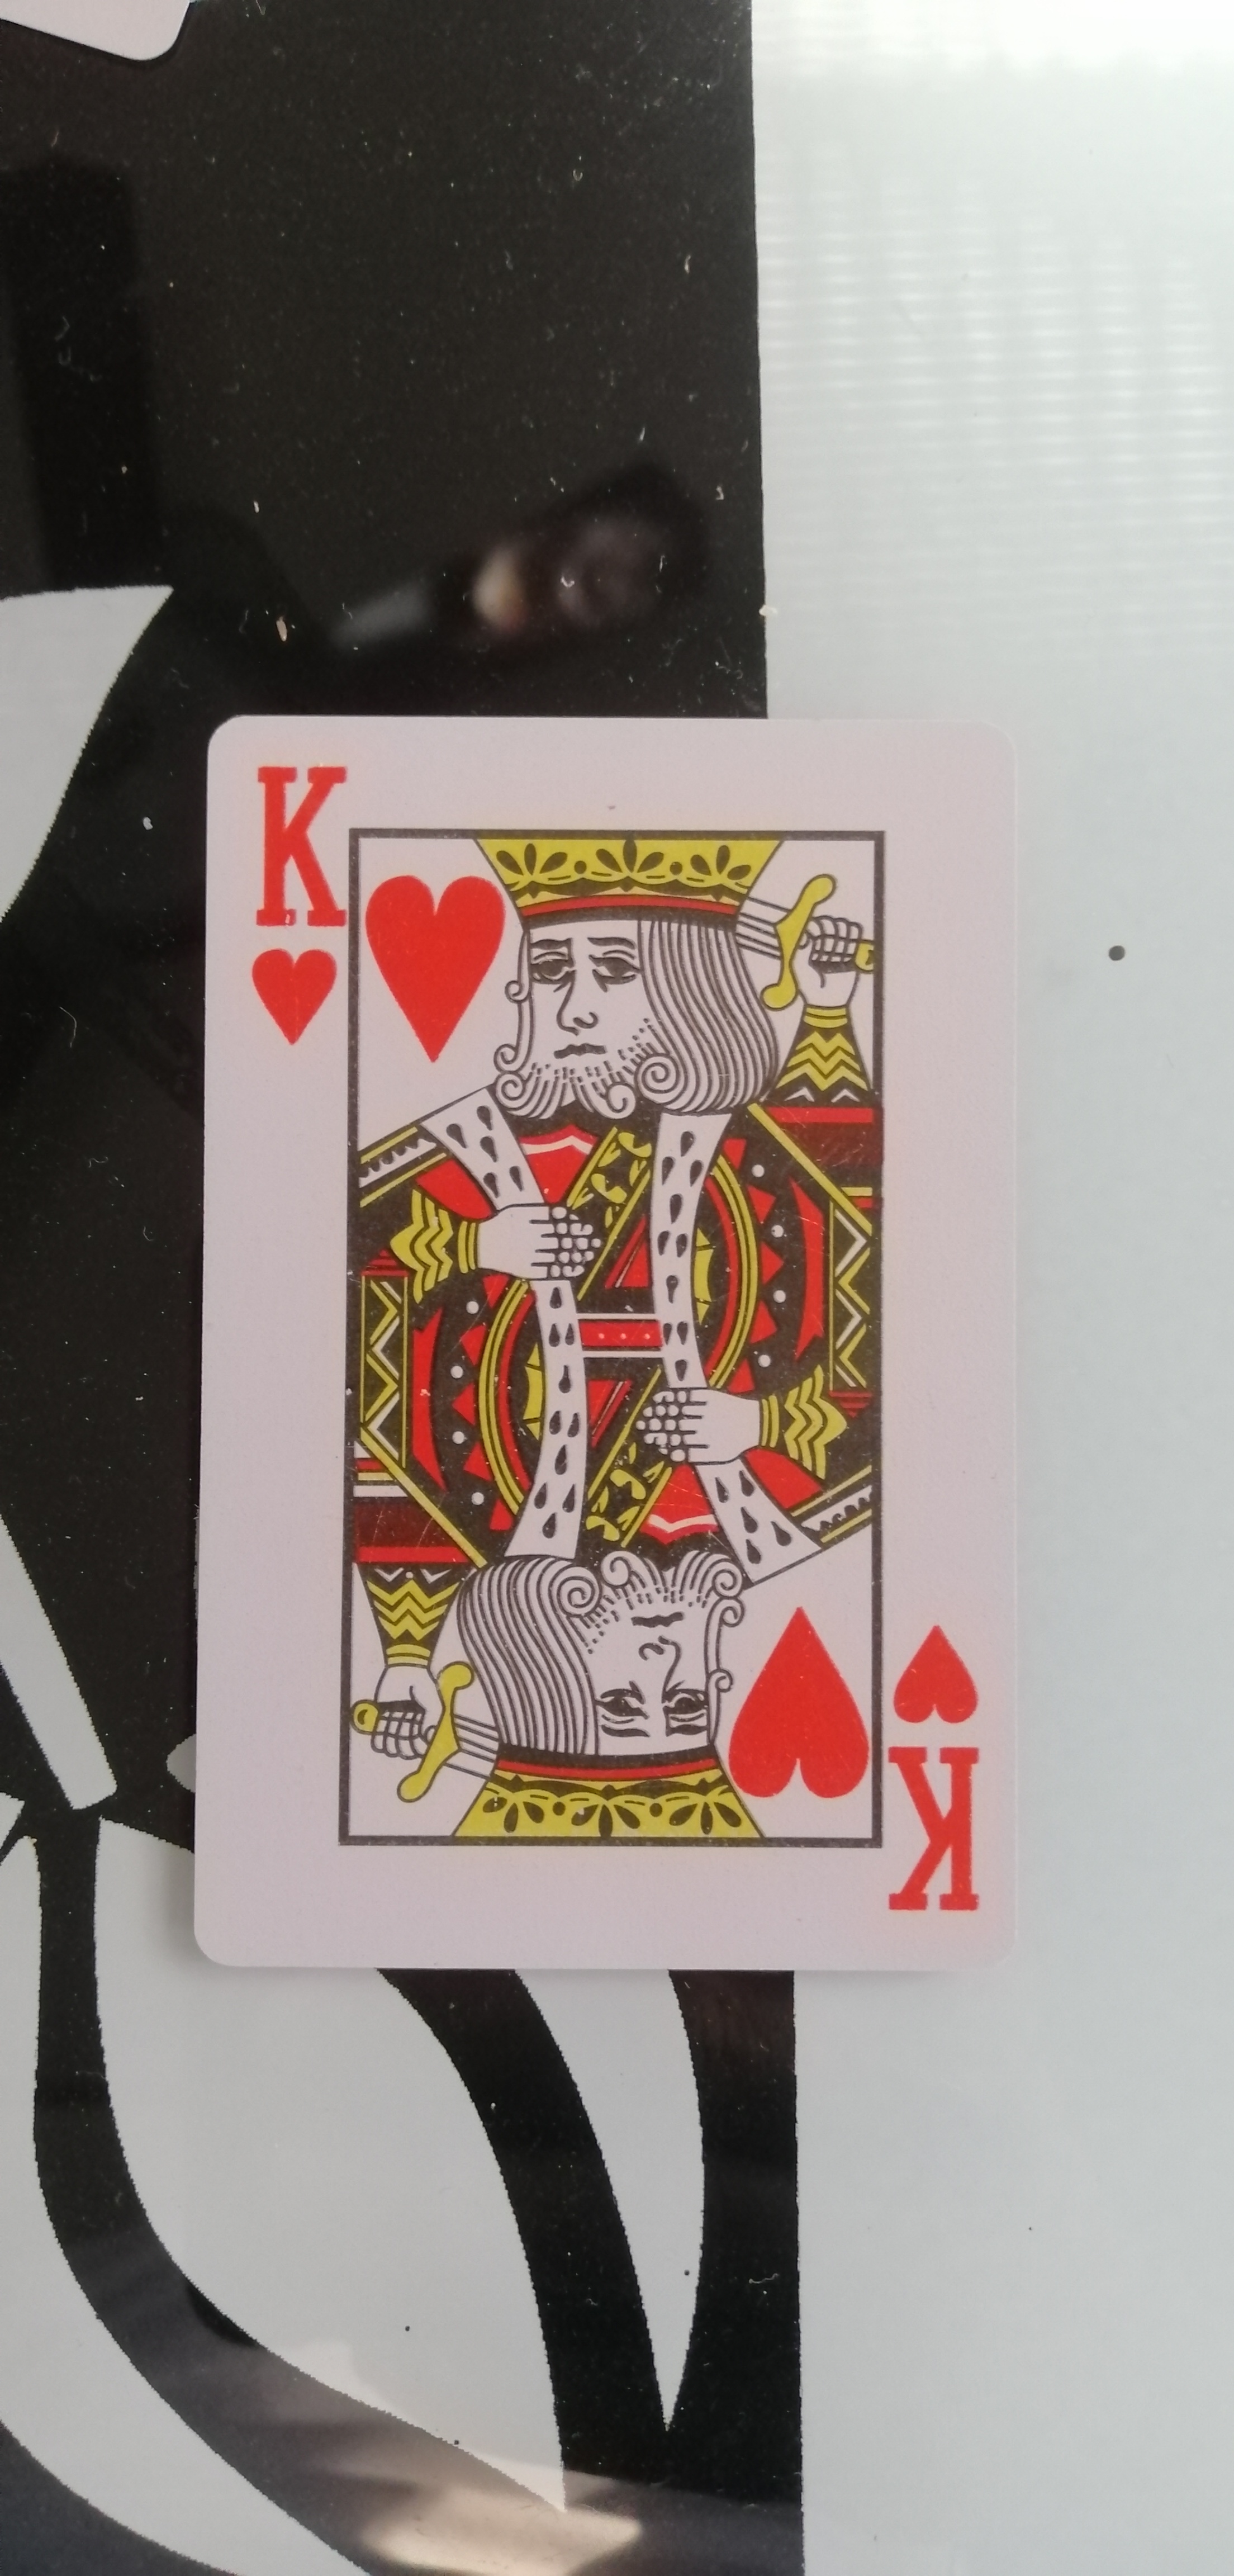king: (194, 692, 1019, 1994)
